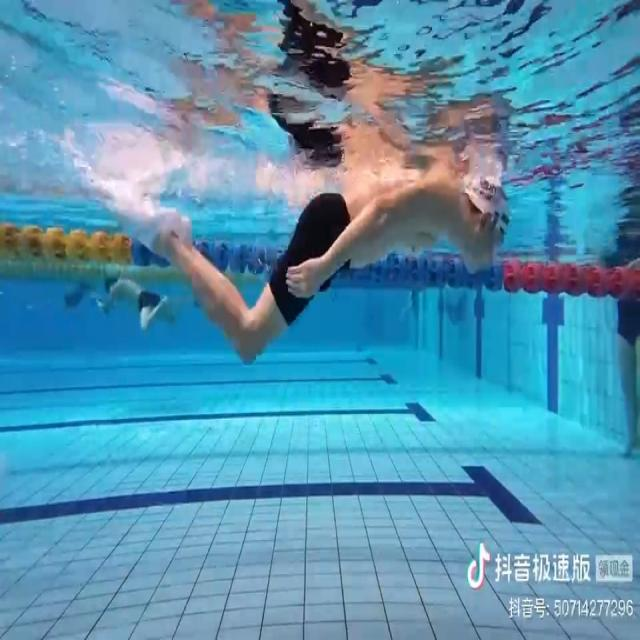Swimming: (136, 184, 512, 362)
